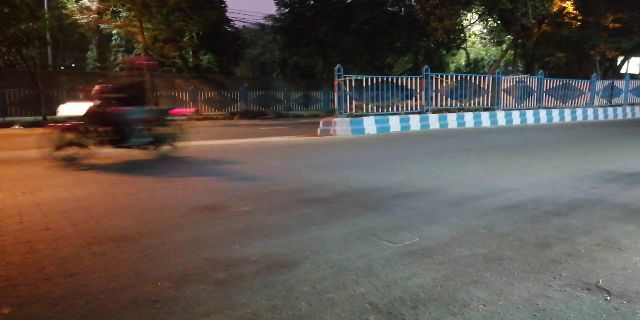Motorbike: (43, 58, 193, 165)
